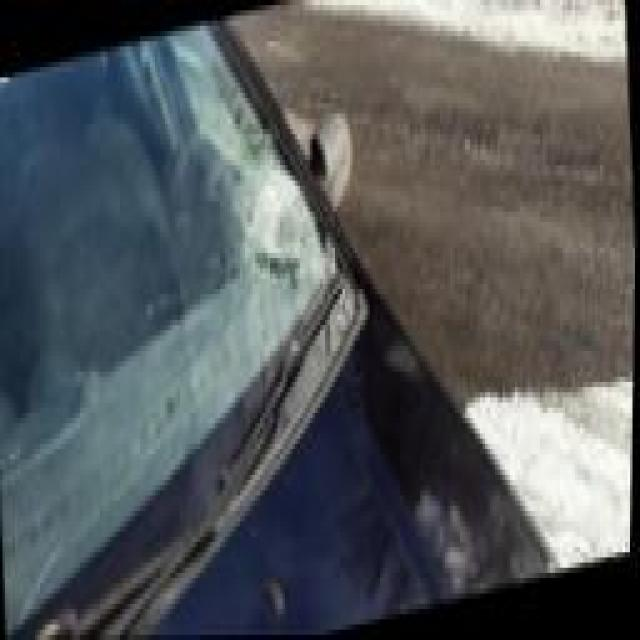Windshield: (70, 26, 362, 545)
